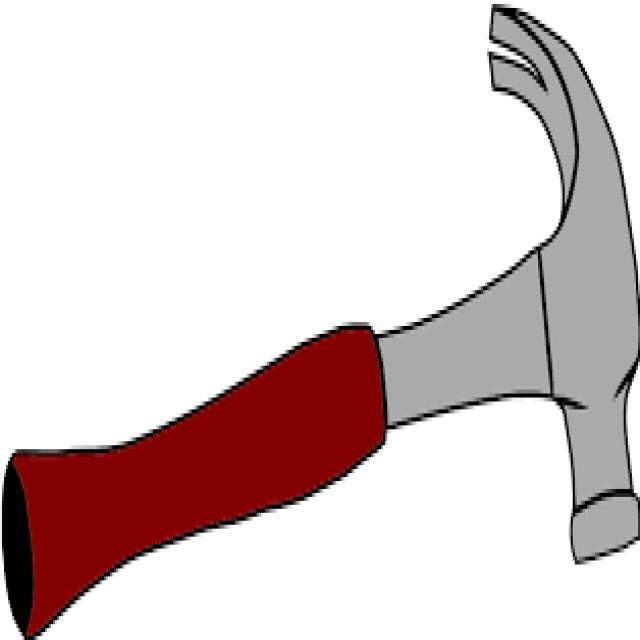Palu: (3, 6, 637, 634)
